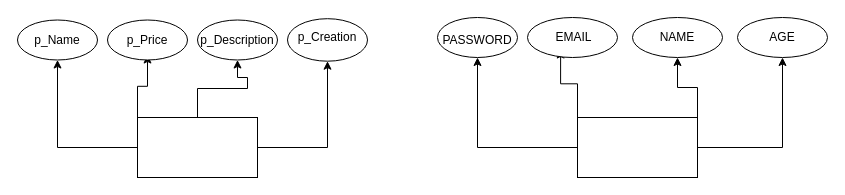
This 845x195 diagram has some shape labels left out. Each missing label, with the centre of its shape:
PRODUCT: (x=197, y=147)
USER: (x=637, y=147)
